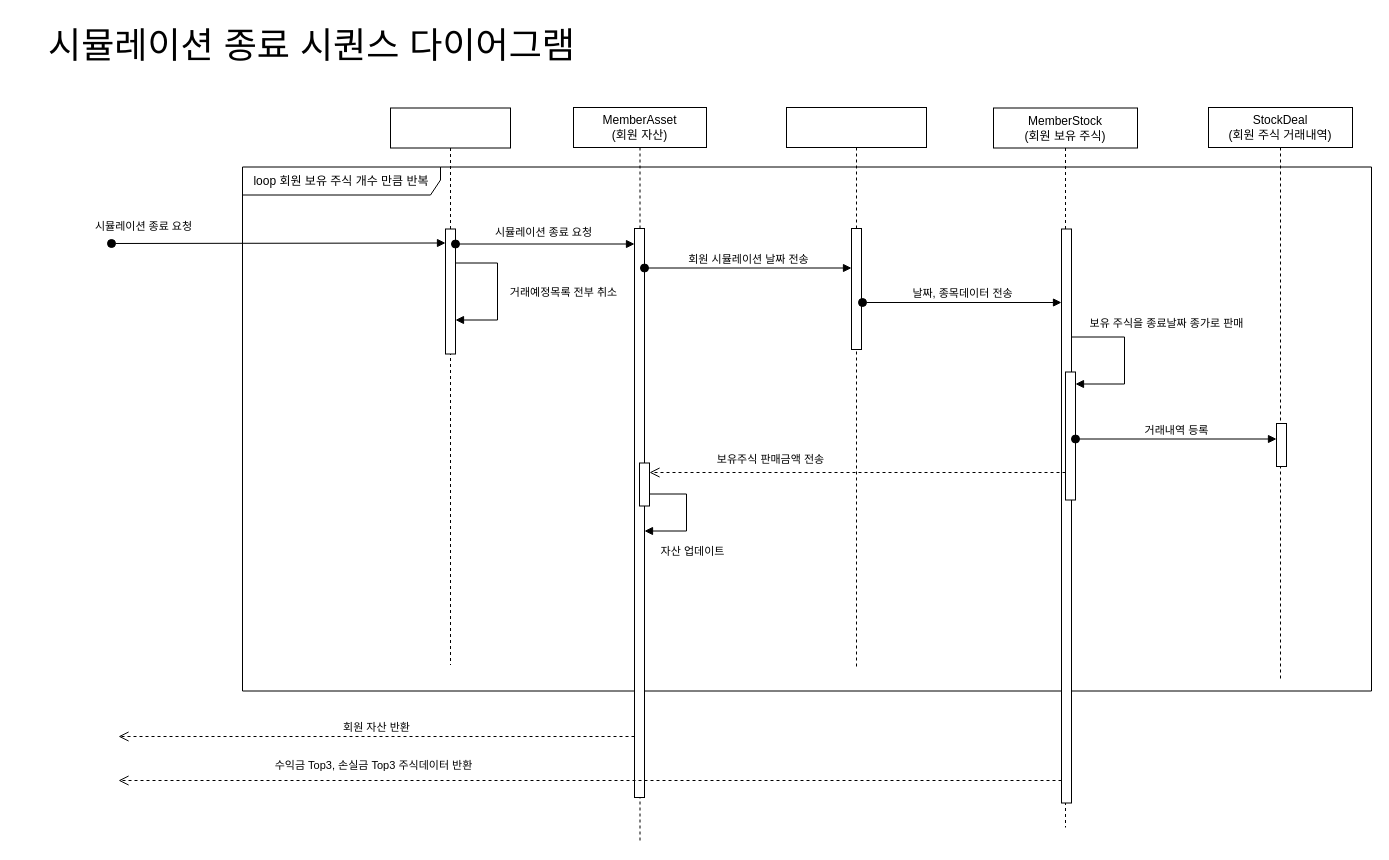
The diagram is 1389 pixels wide and 860 high, and some of its shapes have lost their labels. Each missing label, with the centre of its shape:
"LimitPriceOrder (거래 예정 목록)" belongs at point 450,386.
"StockData (주식데이터)" belongs at point 856,386.
